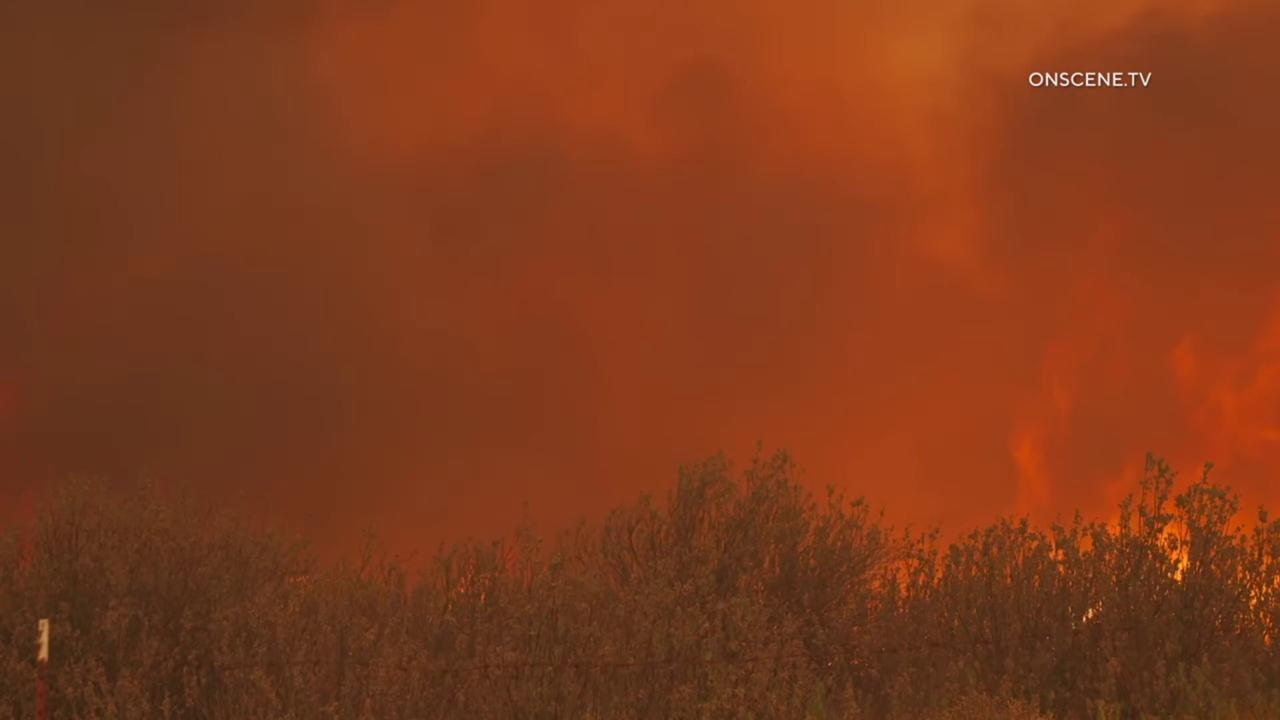fire: (1124, 494, 1198, 587)
smoke: (0, 0, 1280, 654)
